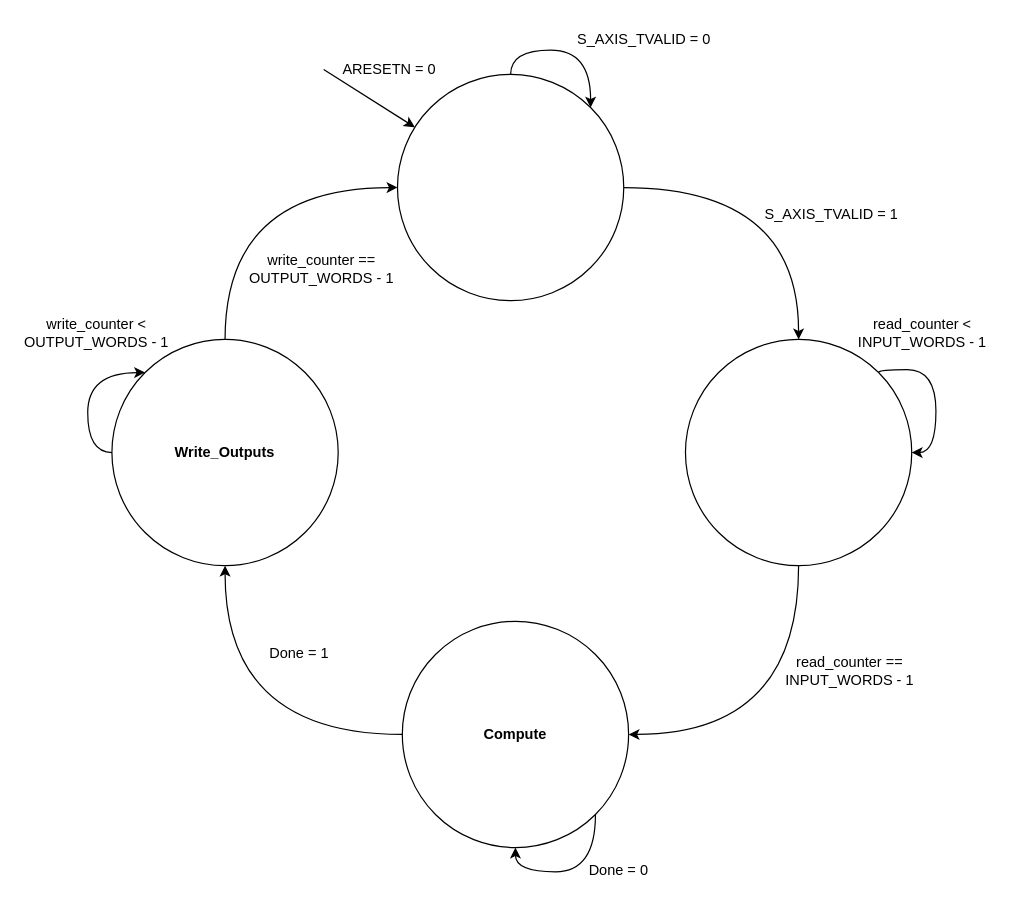
This 1009x922 diagram has some shape labels left out. Each missing label, with the centre of its shape:
"Idle" belongs at (x=510, y=187).
"Read_Inputs" belongs at (x=798, y=452).
